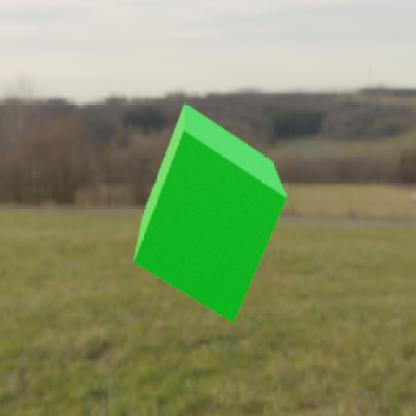green_cube: (132, 102, 288, 322)
